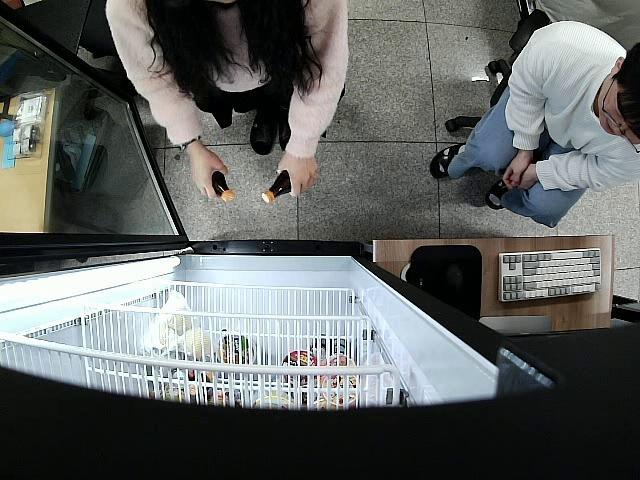17_vita500: (262, 167, 293, 204), (212, 171, 235, 205)
